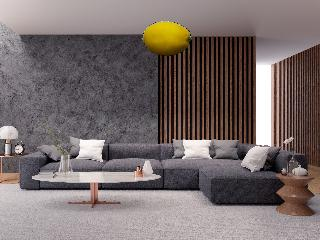lemon: (140, 17, 196, 59)
